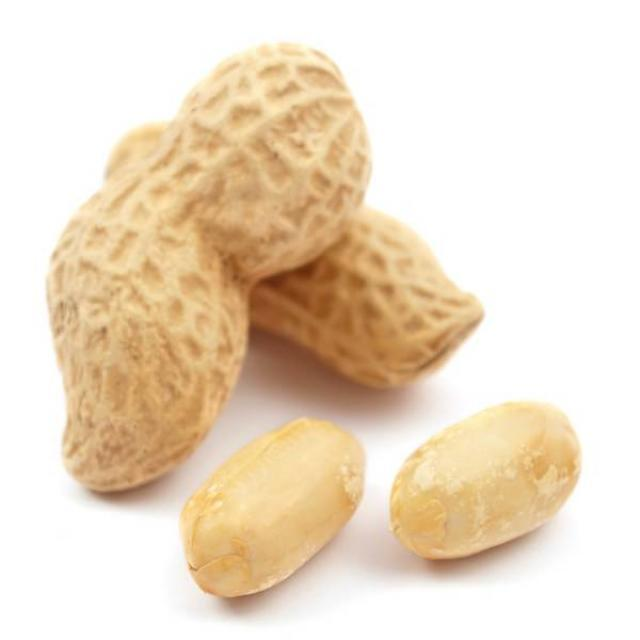Frutta secca: (22, 35, 582, 605)
